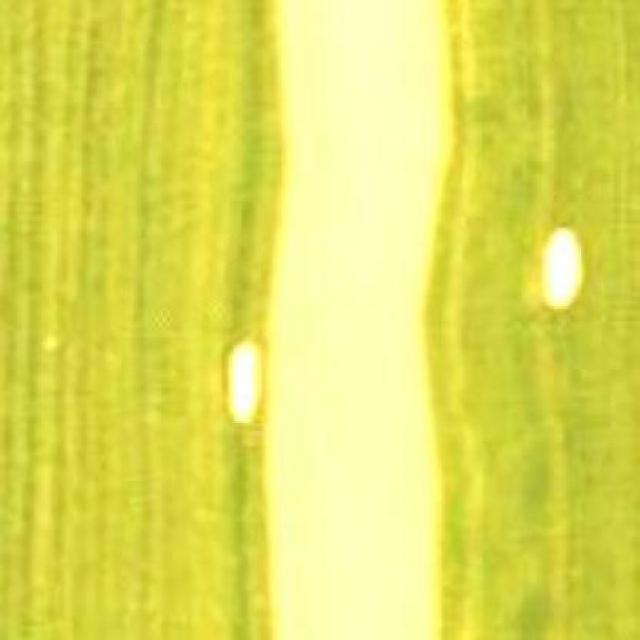whorl-maggot: (537, 209, 595, 320), (223, 334, 266, 431)
